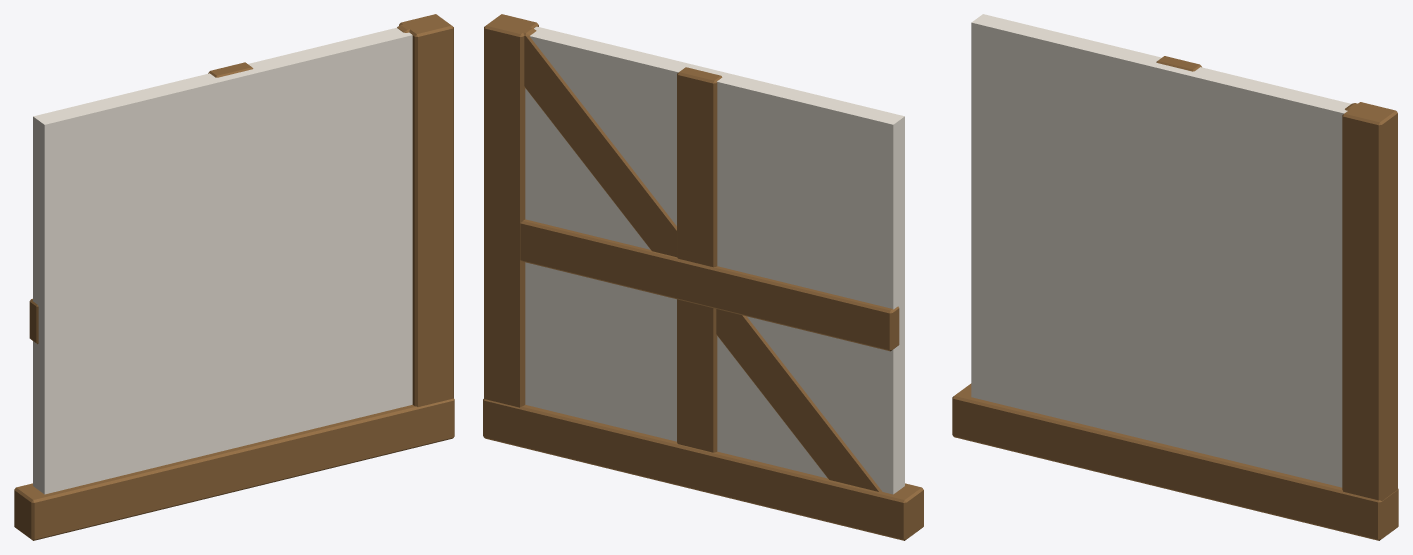
Rendered from WallCrossDiagL.fbx.
The picture shows the model from 3 angles, left to right: view 1: azimuth 30°, elevation 25°; view 2: azimuth 150°, elevation 25°; view 3: azimuth 330°, elevation 25°; orthographic projection.
Parts seen in each view (by area): view 1: Cube.040, Cube.053, Cube.049; view 2: Cube.040, Cube.053, Cube.051, Cube.048, Cube.049, Cube.047; view 3: Cube.040, Cube.049, Cube.053.
Part boxes in pixels (x1,y1,x2,y2): Cube.040: (33,27,412,494); Cube.053: (14,398,454,540); Cube.049: (399,14,453,406); Cube.040: (525,26,904,494); Cube.053: (483,398,923,540); Cube.051: (520,219,899,351); Cube.048: (523,27,882,491); Cube.049: (484,14,538,407); Cube.047: (677,67,722,452); Cube.040: (971,14,1350,487); Cube.049: (1342,102,1397,500); Cube.053: (952,383,1398,540).
Size of the model in its own units: 216 by 202 by 17.27.
